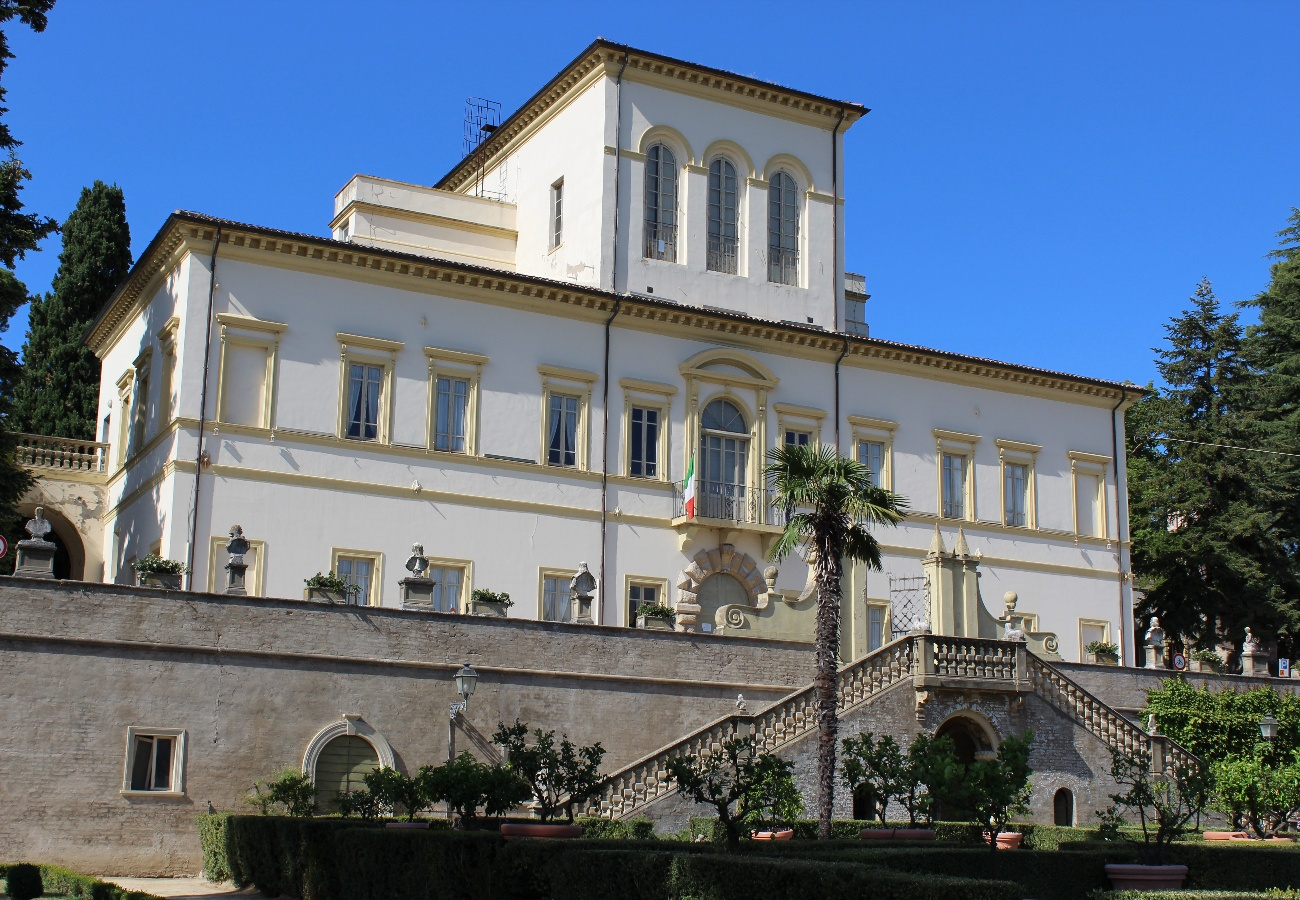Villa Caprile: (88, 39, 1161, 675)
